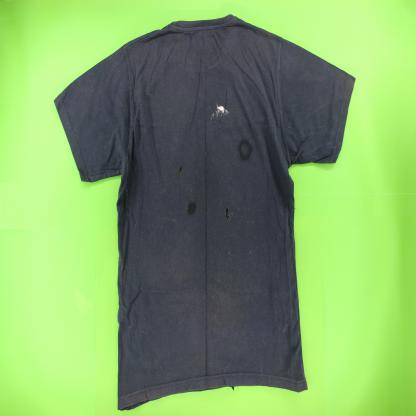stain: (207, 100, 232, 126), (237, 137, 255, 163), (224, 205, 235, 224), (187, 199, 198, 217), (176, 162, 183, 180)
